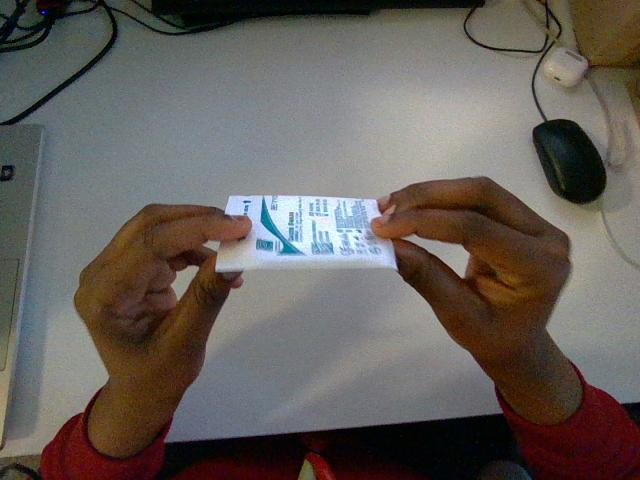gauze: (216, 195, 396, 271)
